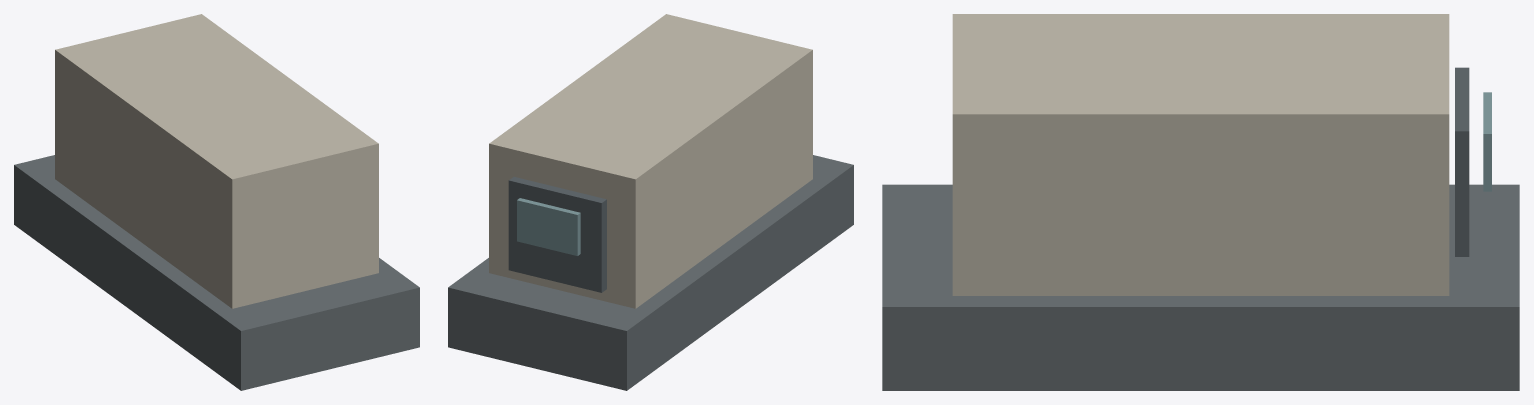
File: iz3_health_bed_01.glb
3 views of the same model, side by side, from view 1: azimuth 30°, elevation 25°; view 2: azimuth 150°, elevation 25°; view 3: azimuth 270°, elevation 25° (orthographic). The views are drawn at different scales.
Parts seen in each view (by area): view 1: cabinet, base; view 2: cabinet, base, panel, display; view 3: cabinet, base, panel, display.
Part boxes in pixels (bbox=[...]): cabinet: bbox=[55, 14, 378, 308]; base: bbox=[14, 155, 419, 390]; cabinet: bbox=[489, 14, 812, 308]; base: bbox=[448, 155, 853, 390]; panel: bbox=[508, 177, 606, 292]; display: bbox=[517, 198, 580, 255]; cabinet: bbox=[952, 14, 1449, 295]; base: bbox=[882, 184, 1519, 390]; panel: bbox=[1455, 67, 1469, 256]; display: bbox=[1483, 92, 1491, 191].
Bounding box in the file's own units: 1 × 1.01 × 2.2.
